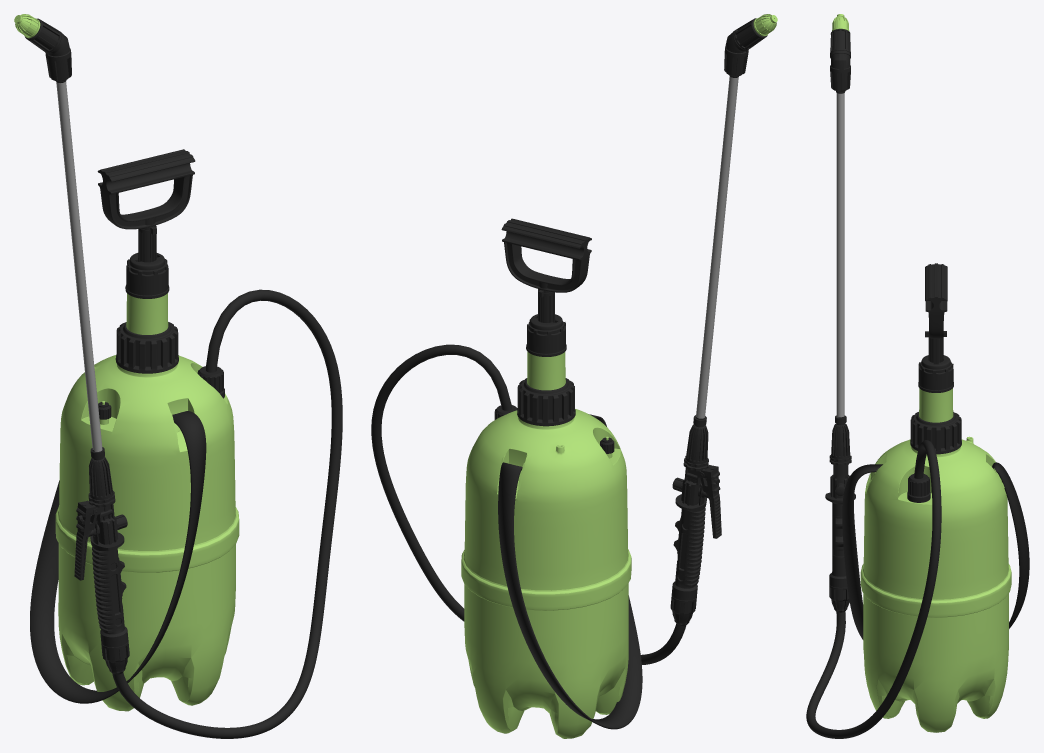
Rendered from pul.fbx.
The picture shows the model from 3 angles, left to right: view 1: azimuth 30°, elevation 25°; view 2: azimuth 150°, elevation 25°; view 3: azimuth 270°, elevation 25°; orthographic projection. The views are drawn at different scales.
Visible parts, largest first — view 1: Circle, Cylinder.003, NurbsPath, NurbsPath.001; view 2: Circle, Cylinder.003, NurbsPath.001, NurbsPath; view 3: Circle, Cylinder.003, NurbsPath, NurbsPath.001.
Part boxes in pixels (<box>): Circle: <box>55,149,239,711</box>; Cylinder.003: <box>14,14,129,674</box>; NurbsPath: <box>112,289,342,738</box>; NurbsPath.001: <box>30,411,206,703</box>; Circle: <box>461,218,631,738</box>; Cylinder.003: <box>670,14,777,625</box>; NurbsPath.001: <box>498,414,642,729</box>; NurbsPath: <box>371,344,686,664</box>; Circle: <box>860,263,1011,732</box>; Cylinder.003: <box>825,14,855,612</box>; NurbsPath: <box>806,440,941,738</box>; NurbsPath.001: <box>842,462,1029,639</box>.
Size of the model in its own units: 295 by 561 by 182.
